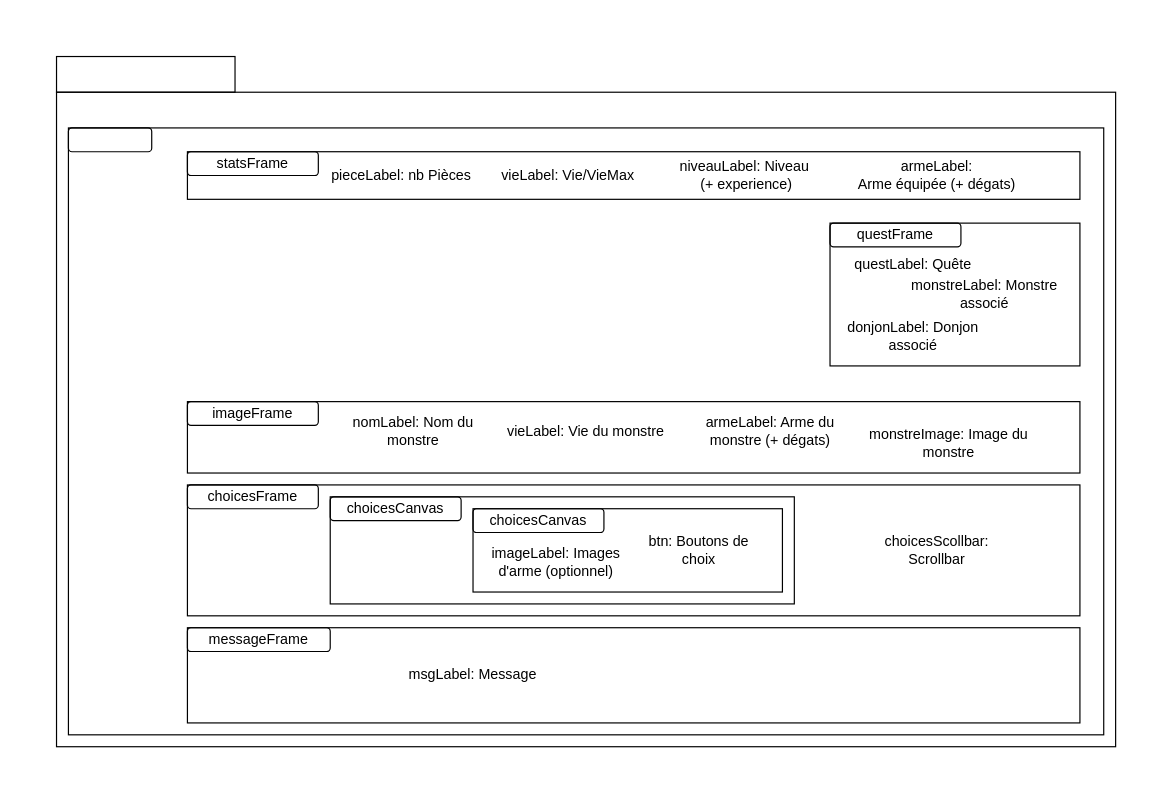
Image size: 1171x790. Some labels were removed from this diagram. Here are the shapes that lost their labels. From the top down, the box of each, then its label:
(55, 55, 235, 92): Fenêtre principale (root)
(67, 127, 152, 152): View
